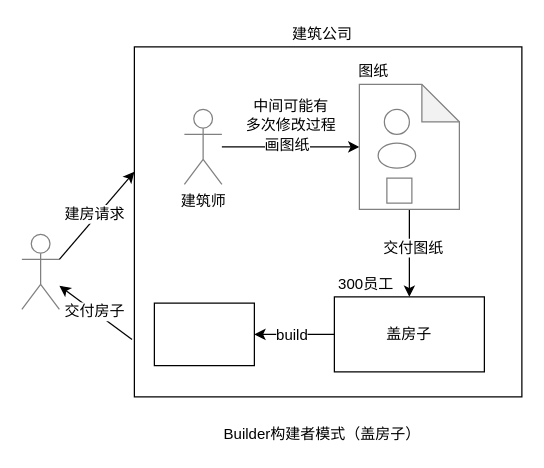
Some shapes in this 544 by 468 pixel diagram are drawn without their labels. Each missing label, with the centre of its shape:
"房子" goes at point 203,334.
"用户" goes at point 40,271.
